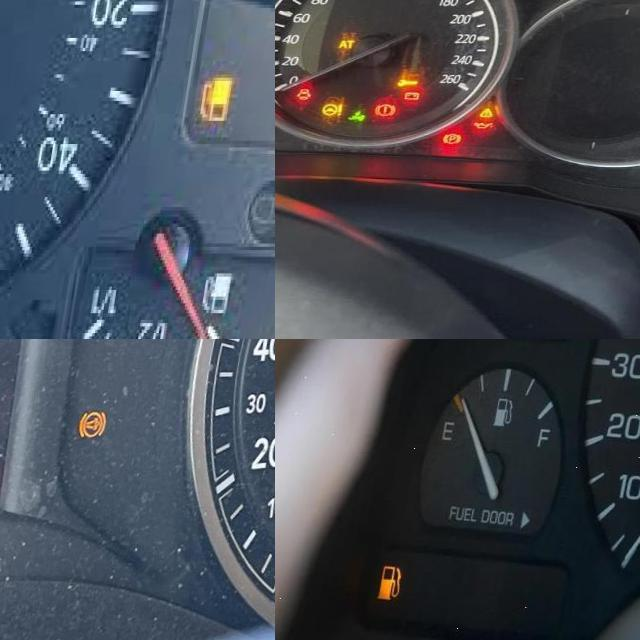Electronic Power Steering: (329, 102, 352, 117)
